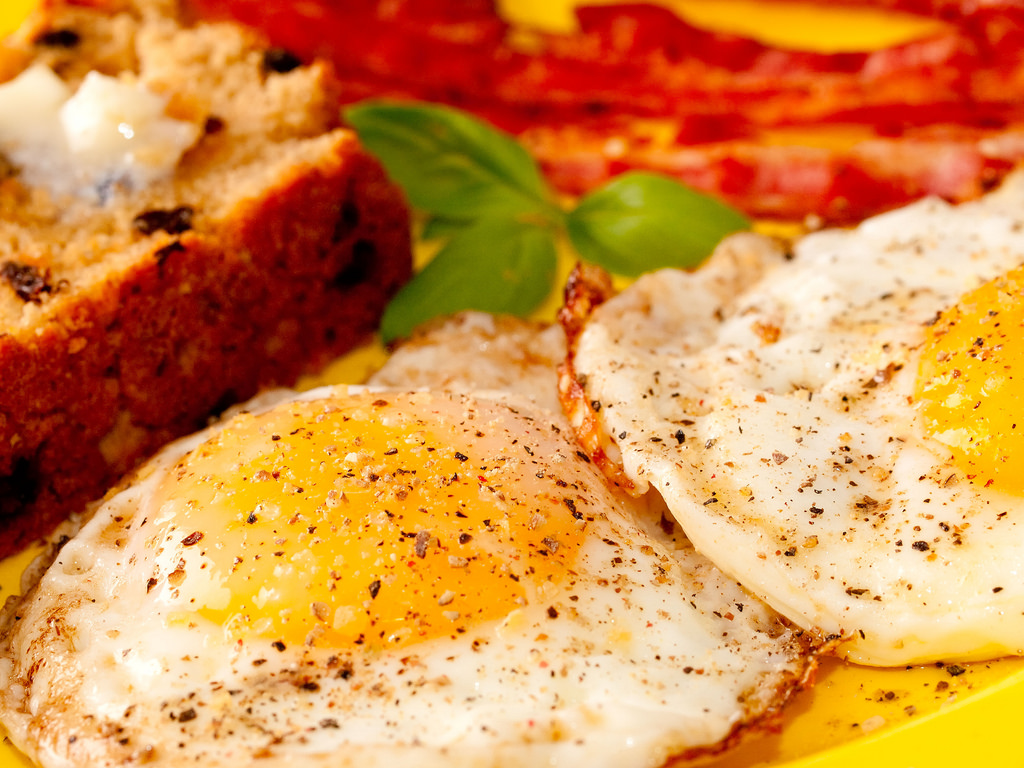fried egg: (57, 397, 807, 768), (576, 227, 1024, 678)
